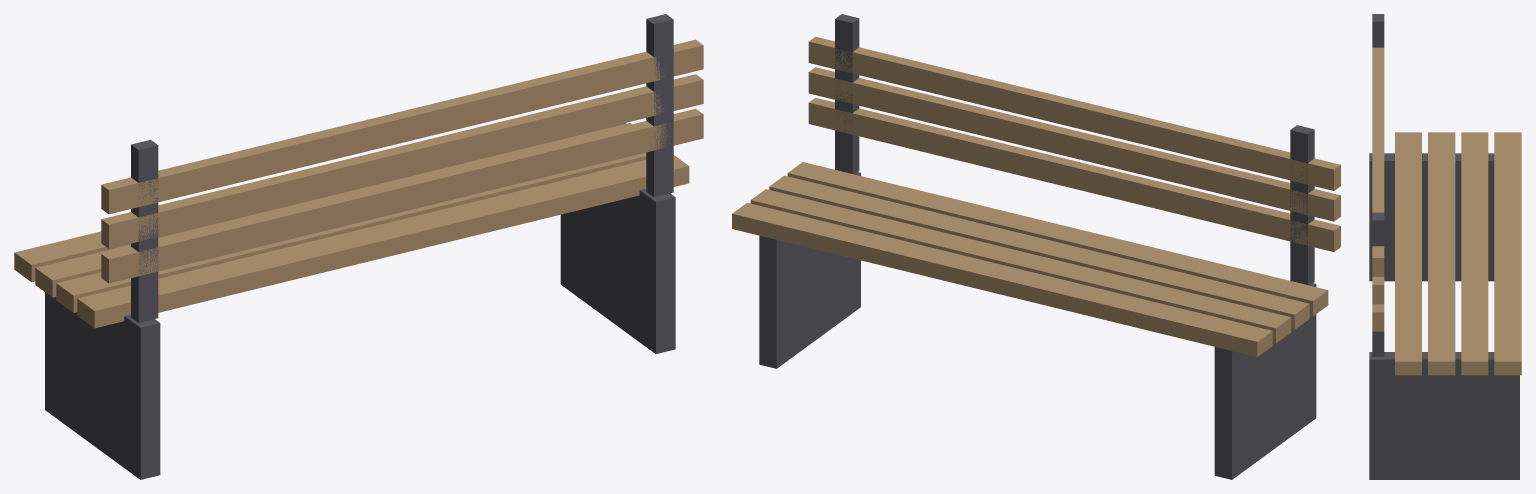
The model's file is bench.glb.
The picture shows the model from 3 angles, left to right: view 1: azimuth 30°, elevation 25°; view 2: azimuth 150°, elevation 25°; view 3: azimuth 270°, elevation 25°; orthographic projection. The views are drawn at different scales.
Parts seen in each view (by area): view 1: bench; view 2: bench; view 3: bench.
Part boxes in pixels (x1=…): bench: x1=14, y1=14, x2=703, y2=479; bench: x1=732, y1=14, x2=1340, y2=479; bench: x1=1369, y1=14, x2=1521, y2=479.
Bounding box in the file's own units: 1.8 × 0.95 × 0.505.
